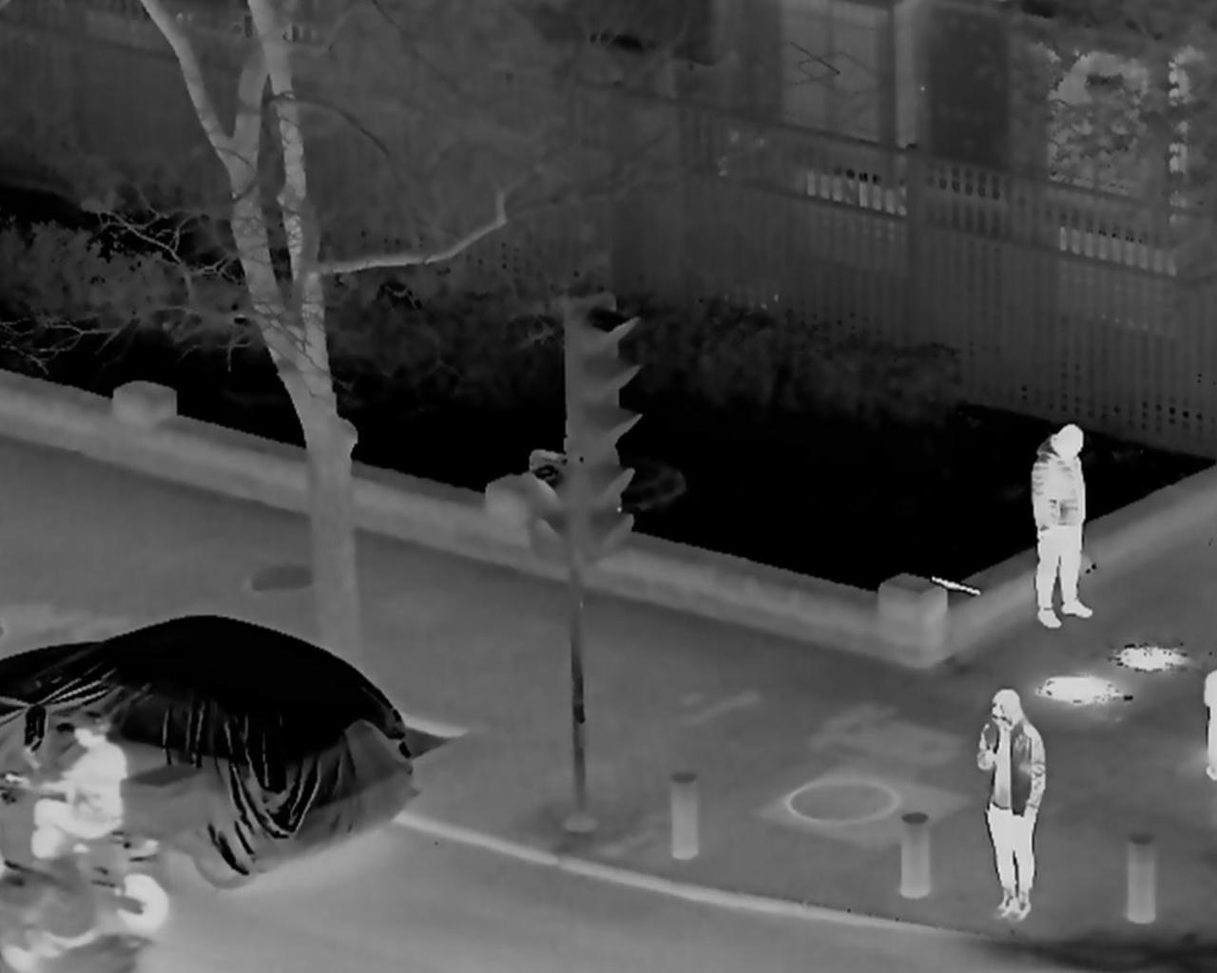person: (975, 685, 1044, 922), (29, 705, 129, 857), (1031, 425, 1096, 634)
